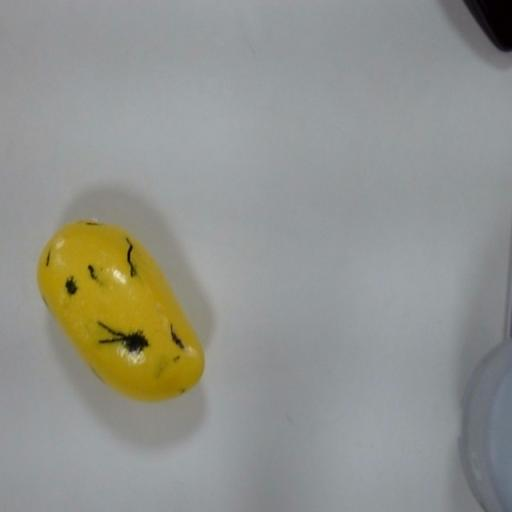Defective: (34, 205, 208, 412)
